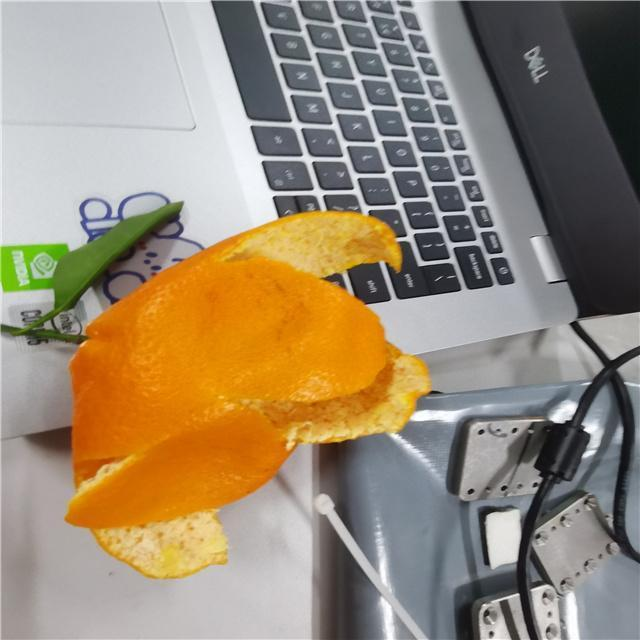orange peel: (66, 212, 431, 578)
